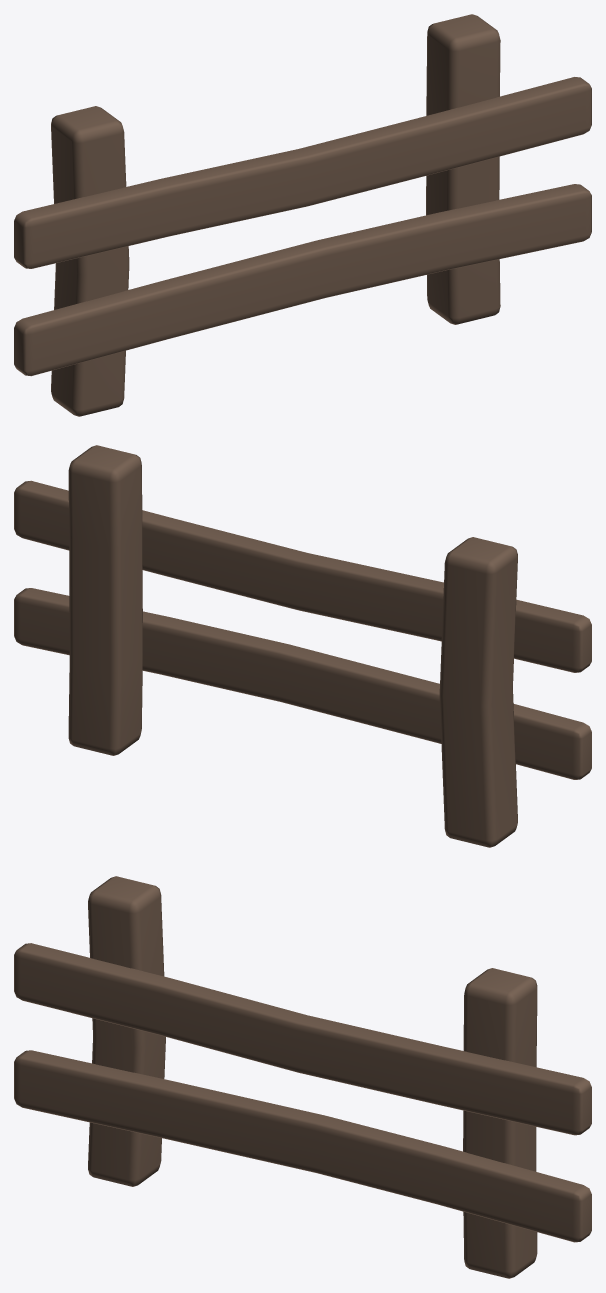
File: FenceB.fbx
3 views of the same model, one above another, from view 1: azimuth 30°, elevation 25°; view 2: azimuth 150°, elevation 25°; view 3: azimuth 330°, elevation 25° (orthographic).
Visible parts, largest first — view 1: FenceB; view 2: FenceB; view 3: FenceB.
Part boxes in pixels (x1,y1,x2,y2): FenceB: [14, 14, 591, 416]; FenceB: [14, 445, 591, 847]; FenceB: [14, 876, 591, 1278].
Bounding box in the file's own units: 166 × 79.99 × 19.72.
